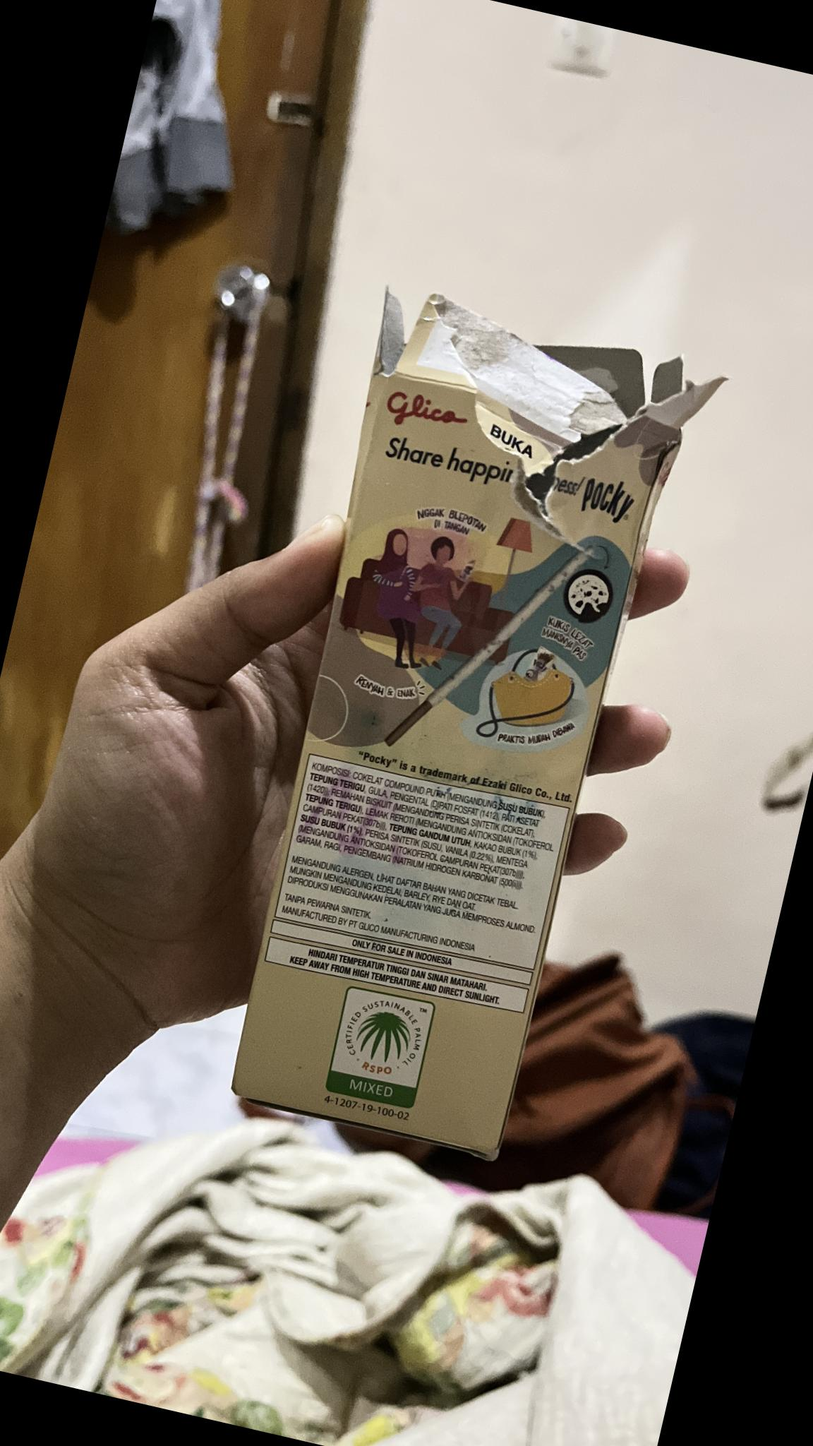Kertas: (226, 377, 666, 1163)
